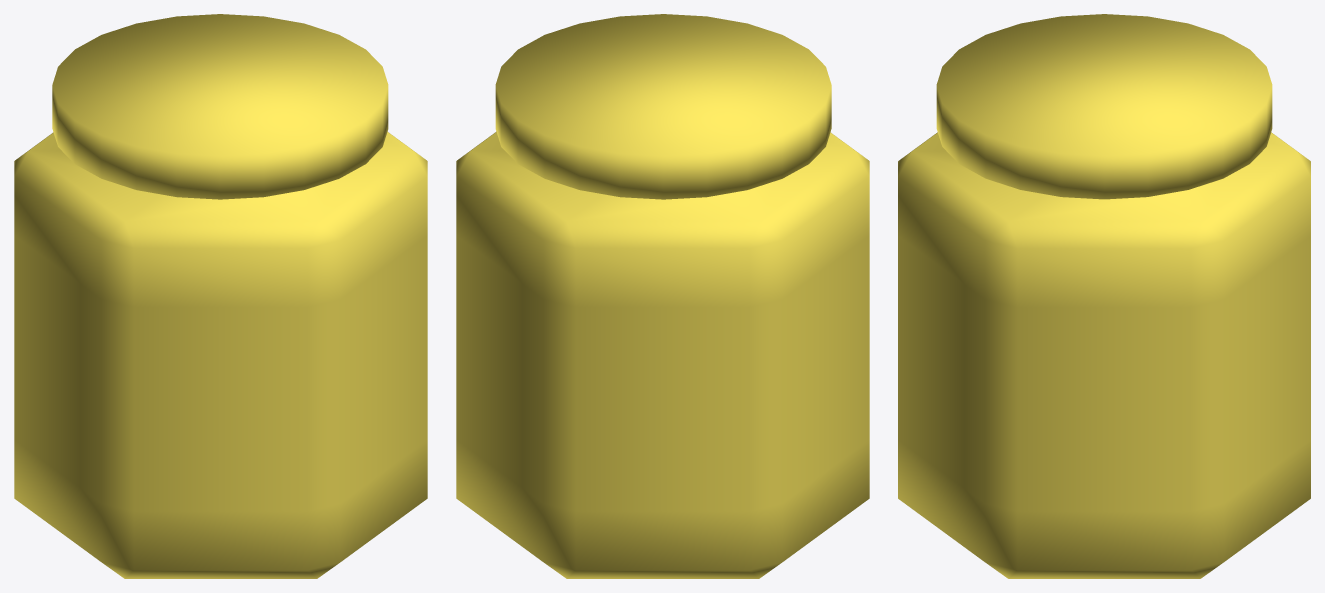
File: MieleAcacia_KM0250g.fbx
The picture shows the model from 3 angles, left to right: view 1: azimuth 30°, elevation 25°; view 2: azimuth 150°, elevation 25°; view 3: azimuth 270°, elevation 25°; orthographic projection.
Visible parts, largest first — view 1: HoneyExagonal500g.002; view 2: HoneyExagonal500g.002; view 3: HoneyExagonal500g.002.
Boxes of the visible parts, bbox=[...] form: HoneyExagonal500g.002: bbox=[14, 14, 427, 578]; HoneyExagonal500g.002: bbox=[456, 14, 869, 578]; HoneyExagonal500g.002: bbox=[898, 14, 1310, 578].
Size of the model in its own units: 246 by 306 by 270.
